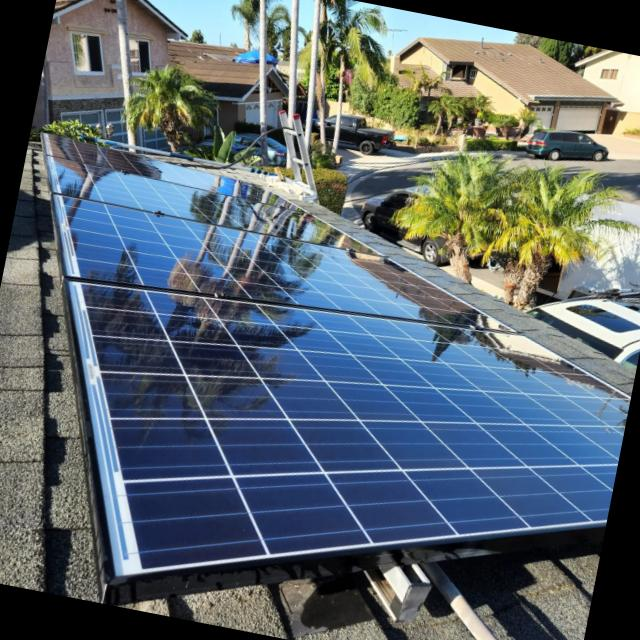no faulty: (56, 140, 621, 572)
